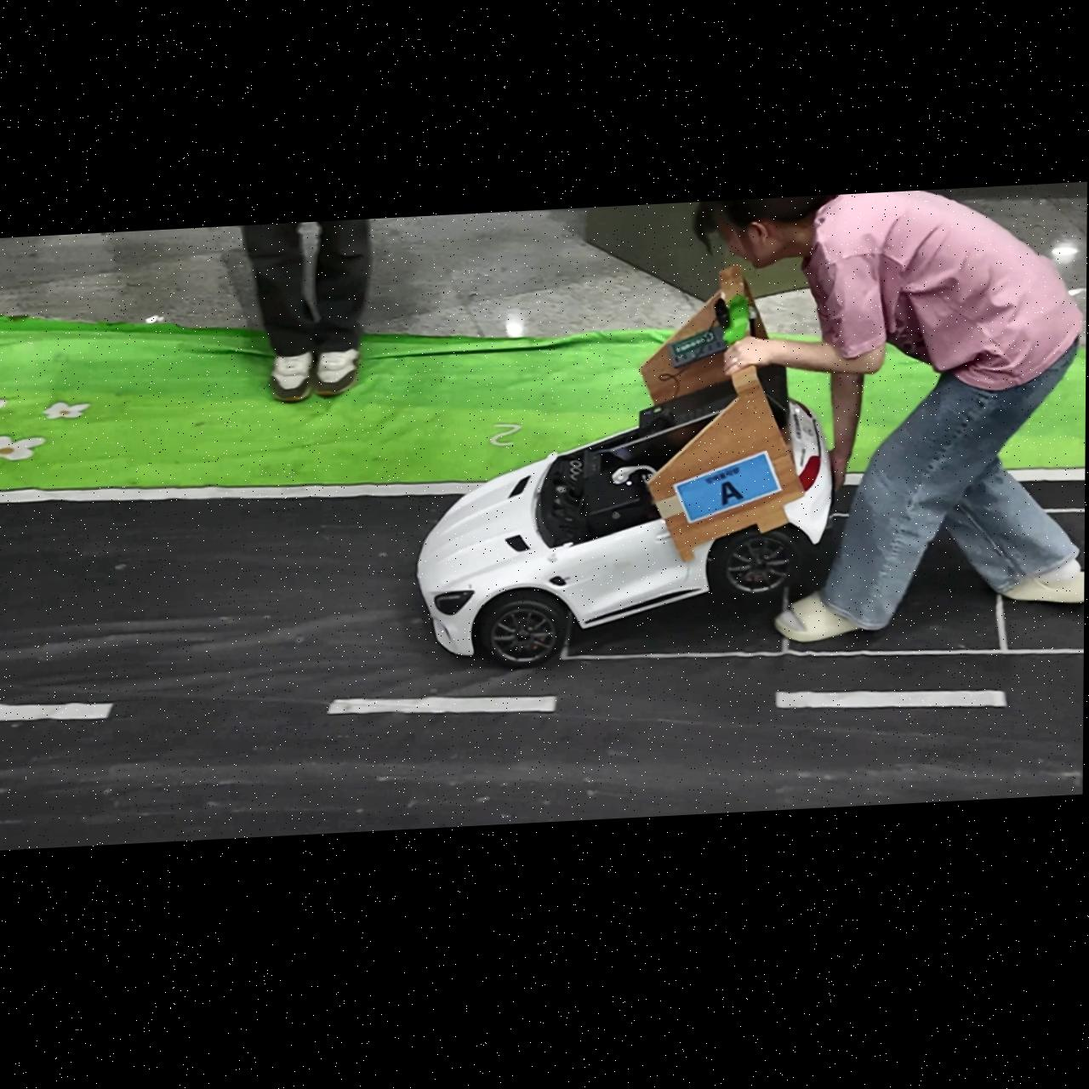broken_line: (326, 696, 557, 715), (775, 690, 1007, 708), (0, 702, 114, 721)
